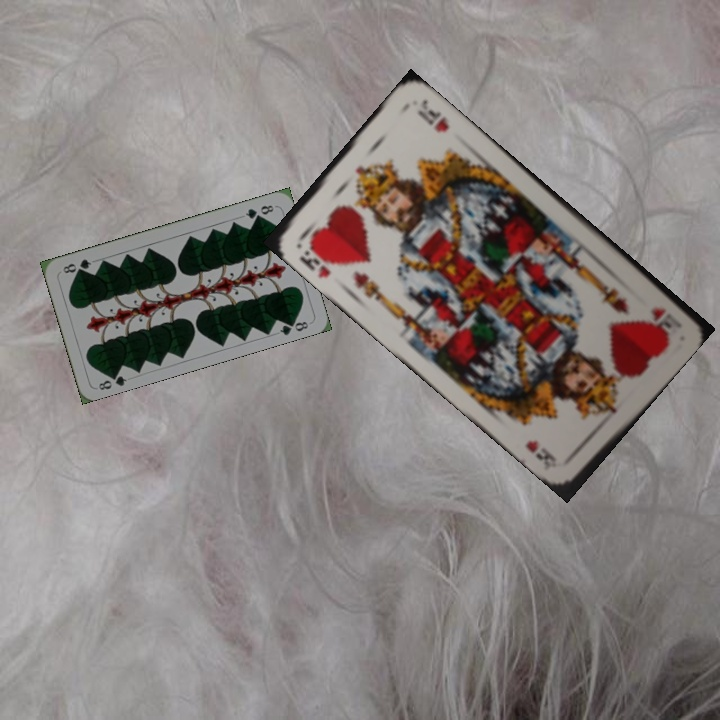G8: (94, 368, 129, 393), (241, 201, 277, 222)
HK: (295, 238, 343, 281), (647, 303, 683, 332)
